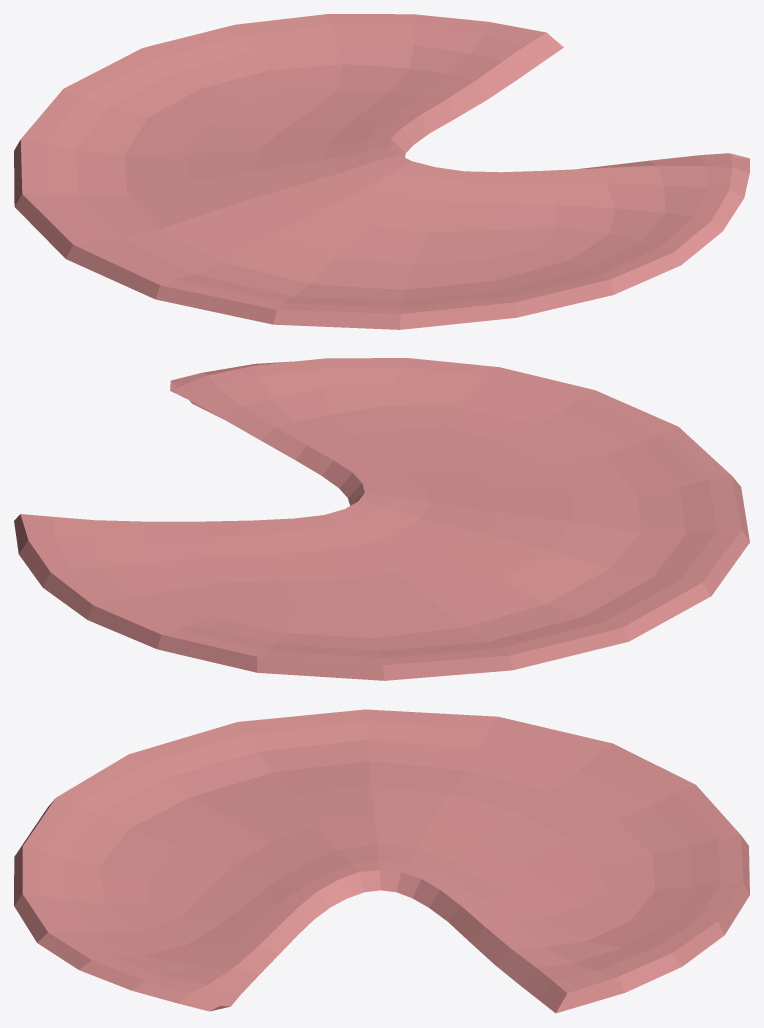
File: Lilypad.glb
3 renders of one model, top to bottom at view 1: azimuth 30°, elevation 25°; view 2: azimuth 150°, elevation 25°; view 3: azimuth 270°, elevation 25°, orthographic.
Parts seen in each view (by area): view 1: UMesh_Recovered_Tool4_1; view 2: UMesh_Recovered_Tool4_1; view 3: UMesh_Recovered_Tool4_1.
Part boxes in pixels (x1,y1,x2,y2): UMesh_Recovered_Tool4_1: (14, 14, 749, 329); UMesh_Recovered_Tool4_1: (14, 358, 749, 680); UMesh_Recovered_Tool4_1: (14, 709, 749, 1013).
Size of the model in its own units: 1.8 by 0.0736 by 1.85.
